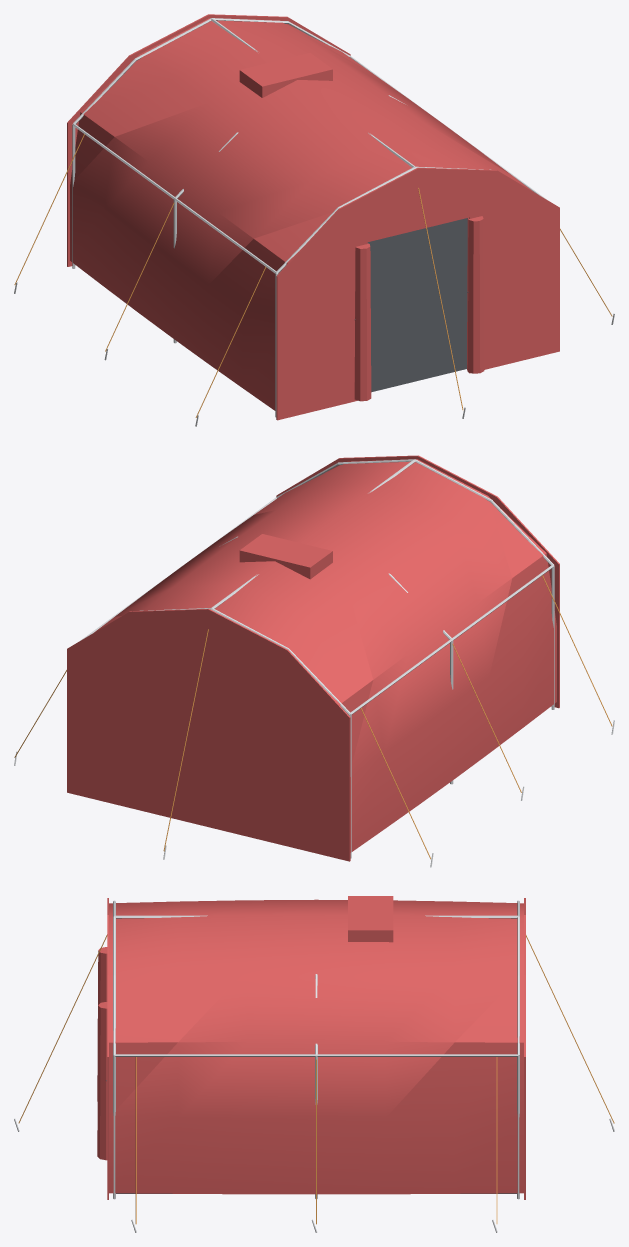
The model's file is mountaineering-and-summit-expedition-mess-tent-841ba931__18790.glb.
The picture shows the model from 3 angles, top to bottom: view 1: azimuth 30°, elevation 25°; view 2: azimuth 150°, elevation 25°; view 3: azimuth 270°, elevation 25°; orthographic projection.
Visible parts, largest first — view 1: mess-tent; view 2: mess-tent; view 3: mess-tent.
Part boxes in pixels (x1,y1,x2,y2): mess-tent: (14, 14, 614, 426); mess-tent: (14, 455, 614, 867); mess-tent: (14, 896, 614, 1232).
Size of the model in its own units: 5.32 by 2.67 by 6.66.
